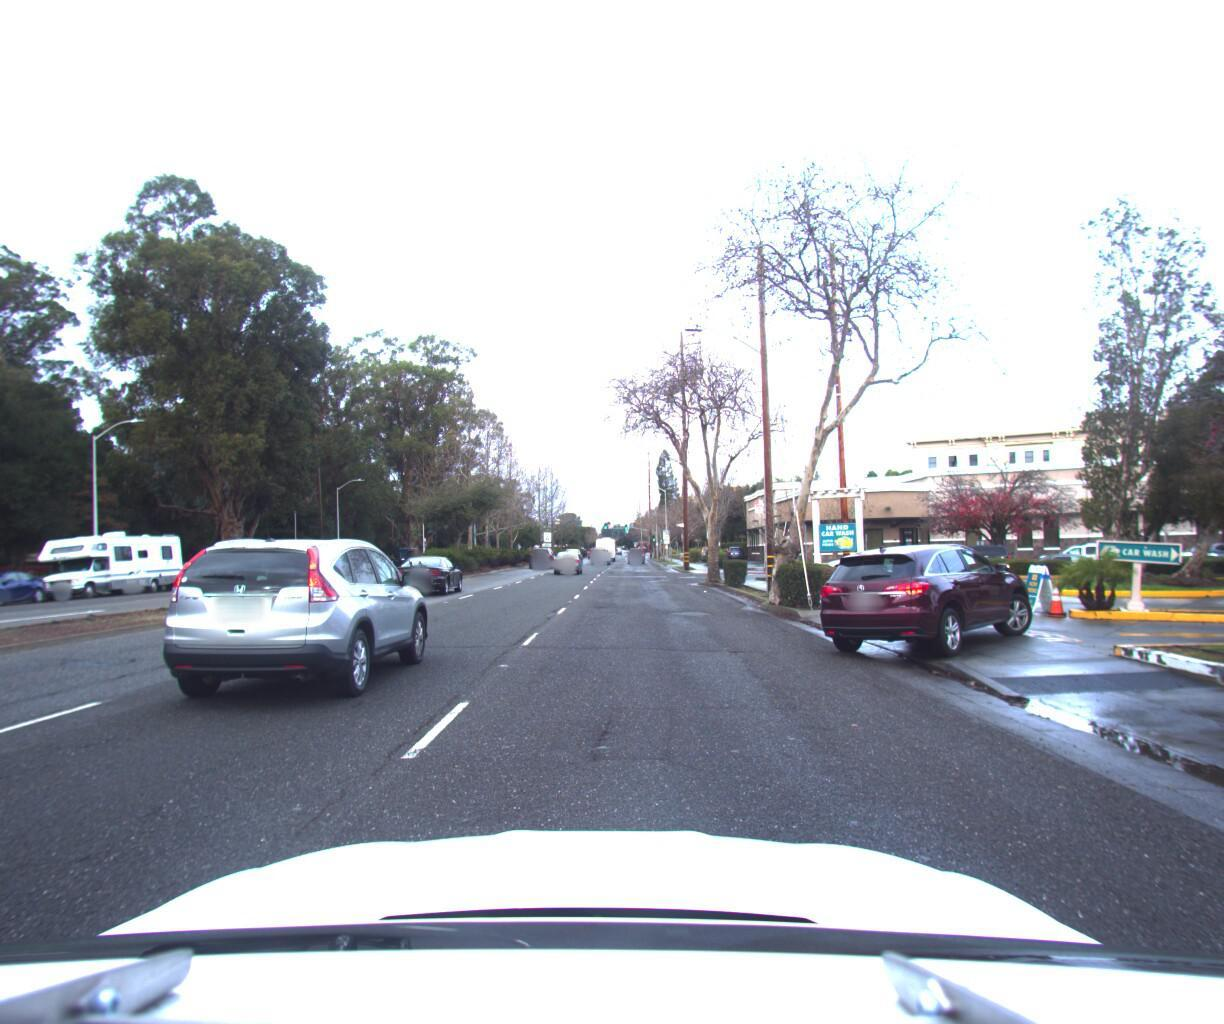car: (124, 517, 431, 720), (805, 540, 1034, 660), (391, 553, 467, 599), (1031, 538, 1120, 574), (0, 568, 61, 611), (169, 557, 243, 590), (821, 550, 901, 573), (553, 546, 584, 573), (529, 547, 555, 567), (590, 547, 611, 563)
other_vehicle: (30, 526, 195, 603), (280, 539, 345, 580)
